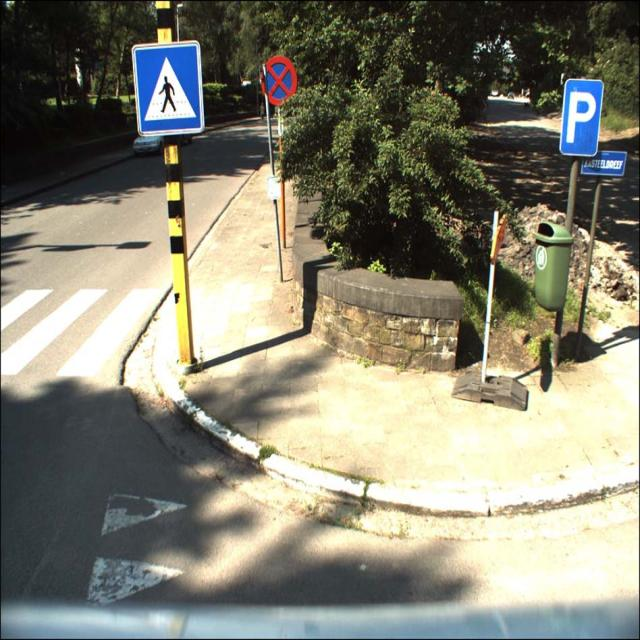park: (559, 79, 602, 156)
